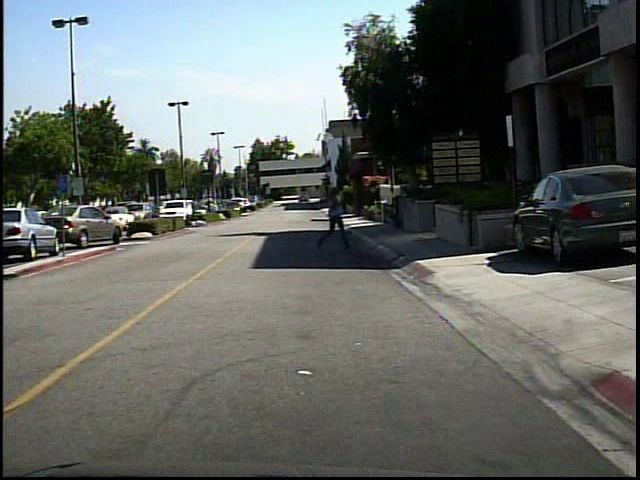person: (318, 184, 351, 254)
